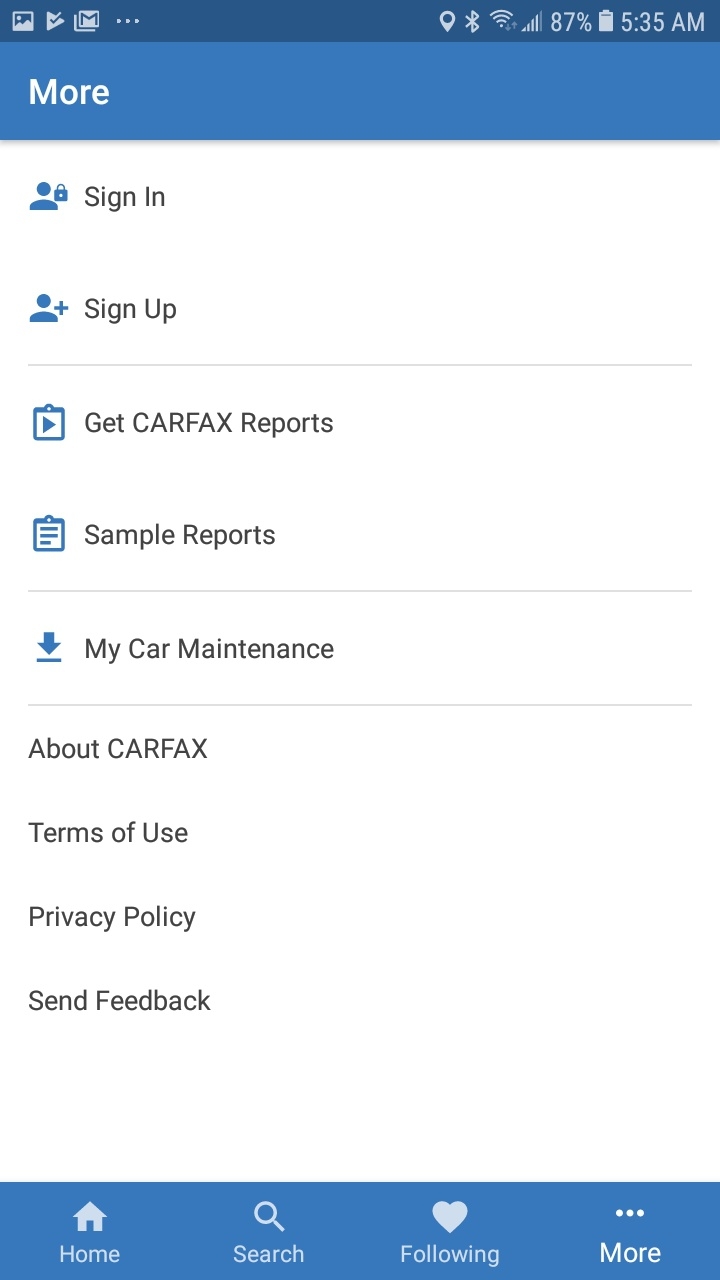Icon: (432, 1200, 469, 1234), (34, 515, 67, 553), (34, 404, 67, 442), (30, 294, 70, 323), (29, 183, 69, 212), (73, 1200, 109, 1232), (253, 1200, 286, 1233), (36, 632, 63, 663), (615, 1208, 645, 1218)
Text: (85, 411, 334, 439), (86, 637, 335, 665), (85, 522, 276, 551), (30, 904, 197, 933), (29, 989, 212, 1012), (28, 737, 208, 760), (29, 820, 189, 844), (85, 297, 178, 325), (401, 1243, 500, 1268), (85, 185, 166, 213), (30, 79, 110, 107), (233, 1243, 305, 1264), (600, 1241, 662, 1264), (60, 1244, 121, 1264)
UpperTaskBar: (1, 1, 720, 43)
